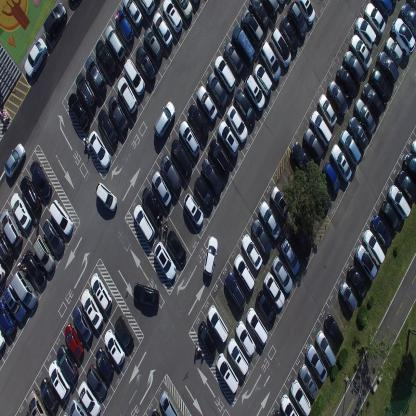car: (10, 270, 38, 310), (23, 36, 48, 80), (232, 24, 256, 68), (257, 40, 281, 84), (391, 17, 416, 58), (3, 283, 28, 323), (48, 198, 74, 236), (80, 288, 104, 329), (41, 218, 66, 257), (84, 54, 107, 96), (215, 352, 239, 392), (23, 248, 47, 288), (153, 240, 176, 281), (226, 336, 249, 377), (0, 209, 23, 250), (74, 71, 98, 110), (32, 234, 56, 273), (30, 158, 52, 200), (116, 76, 139, 116), (207, 137, 230, 177), (177, 120, 200, 160), (88, 129, 111, 169), (355, 243, 378, 283), (304, 343, 327, 383), (43, 1, 67, 39), (224, 270, 246, 311), (233, 253, 255, 294), (133, 203, 155, 244), (271, 254, 293, 295), (259, 201, 282, 240), (240, 9, 263, 48), (376, 49, 400, 86), (270, 27, 291, 69), (170, 138, 192, 178), (207, 304, 229, 344), (186, 102, 208, 142), (218, 119, 240, 159), (154, 100, 176, 140), (330, 142, 352, 182), (48, 360, 70, 400), (226, 103, 248, 143), (122, 58, 145, 96), (57, 343, 78, 384), (241, 233, 263, 272), (246, 306, 268, 345), (142, 25, 164, 64), (310, 108, 332, 147), (19, 176, 41, 215), (234, 88, 256, 127), (95, 38, 116, 78), (104, 24, 125, 64), (235, 319, 256, 359), (10, 191, 31, 231), (287, 0, 308, 40), (160, 154, 182, 192), (200, 159, 222, 197), (3, 141, 25, 179), (354, 97, 376, 135), (68, 92, 90, 130), (90, 273, 112, 311), (71, 305, 93, 343), (104, 328, 126, 366), (214, 54, 236, 92), (289, 378, 311, 416), (388, 183, 411, 219), (280, 237, 300, 278), (251, 218, 272, 257), (264, 271, 285, 310), (165, 228, 187, 265), (350, 33, 372, 70), (363, 229, 385, 266), (316, 328, 336, 368), (196, 84, 217, 122), (107, 94, 128, 132), (152, 10, 173, 48), (97, 107, 118, 145), (245, 74, 266, 112), (94, 180, 118, 213), (362, 82, 384, 118), (206, 71, 228, 107), (291, 223, 312, 260), (291, 140, 312, 177), (340, 129, 361, 166), (327, 78, 348, 115), (303, 127, 324, 164), (223, 40, 244, 77), (78, 380, 100, 415), (134, 44, 154, 82), (142, 185, 162, 223), (114, 7, 134, 45), (312, 173, 332, 211), (279, 15, 299, 53), (298, 362, 318, 400), (193, 176, 214, 212), (85, 365, 107, 399), (152, 171, 172, 208), (196, 320, 216, 357), (370, 66, 390, 103), (183, 192, 204, 227), (365, 1, 386, 36), (347, 264, 368, 299), (343, 50, 365, 83), (114, 315, 134, 351), (256, 288, 276, 324), (0, 297, 18, 337), (64, 323, 84, 359), (371, 213, 391, 249), (133, 281, 159, 308), (356, 15, 376, 50), (337, 64, 357, 99), (396, 169, 416, 204), (381, 198, 401, 233), (348, 116, 368, 150), (324, 313, 344, 347), (203, 235, 219, 277), (270, 184, 289, 219), (318, 93, 337, 128), (322, 160, 340, 196), (40, 376, 58, 412), (94, 347, 113, 381), (26, 387, 49, 415), (162, 0, 182, 32), (339, 281, 358, 314), (254, 62, 272, 96), (249, 0, 270, 28), (158, 389, 180, 415), (122, 0, 143, 27), (384, 37, 403, 66), (400, 3, 416, 37), (0, 228, 15, 264), (296, 0, 315, 27), (280, 393, 299, 415), (403, 152, 416, 183), (174, 0, 193, 20), (372, 0, 392, 19), (68, 397, 89, 415), (261, 0, 280, 18), (138, 0, 155, 15), (0, 328, 7, 350), (0, 262, 6, 282), (410, 138, 416, 156), (150, 407, 160, 415), (273, 408, 281, 416), (278, 0, 288, 5)
